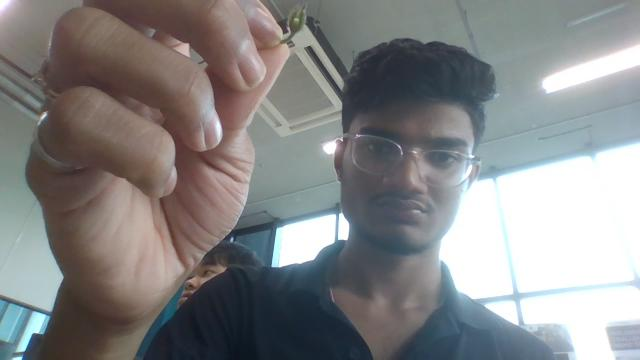Fruit Bud: (285, 3, 307, 42)
